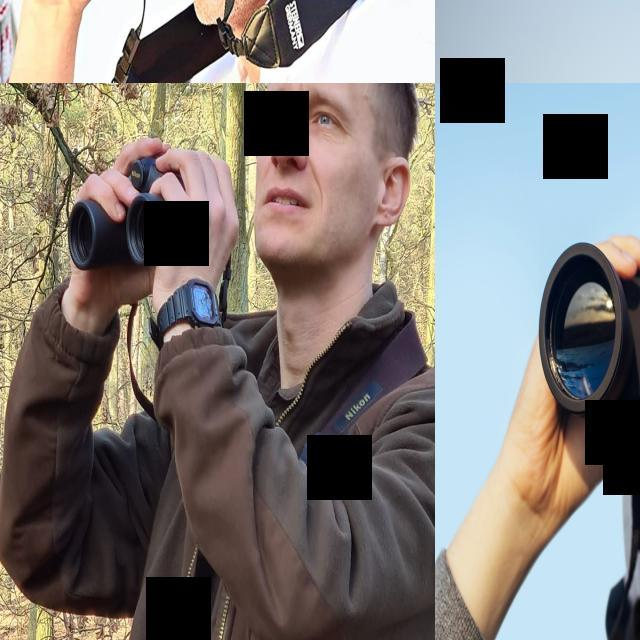Binocular: (63, 142, 188, 282)
